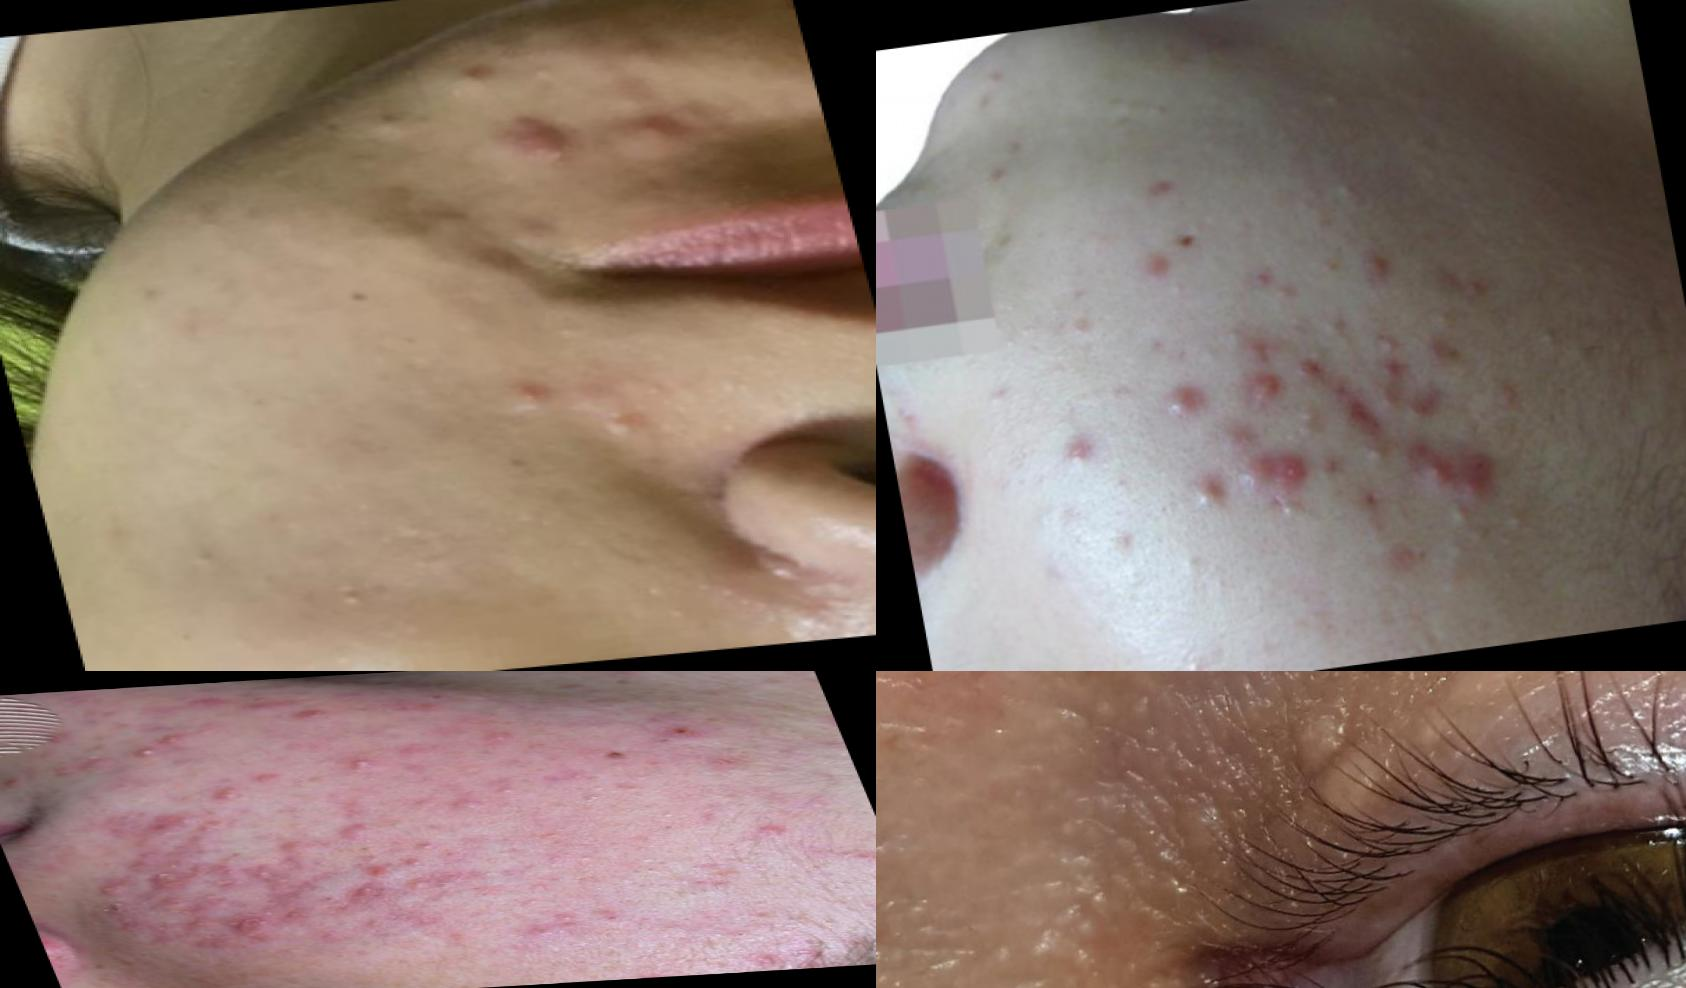papular: (1220, 436, 1326, 505), (483, 116, 598, 171), (1143, 375, 1222, 441), (1407, 438, 1474, 505), (602, 109, 725, 145), (1232, 366, 1307, 421), (1343, 240, 1409, 293), (1050, 427, 1117, 478), (1452, 455, 1503, 519), (228, 907, 296, 946), (1284, 345, 1343, 389), (1239, 333, 1290, 379), (1178, 467, 1222, 520), (1133, 248, 1187, 288), (1405, 390, 1451, 429), (1367, 351, 1411, 389), (205, 781, 255, 810), (327, 820, 383, 843), (147, 867, 193, 894)
purulent: (98, 741, 170, 767), (328, 749, 394, 777), (87, 879, 138, 900)
syringoma: (1211, 672, 1539, 821)
whitehead: (317, 72, 439, 152), (414, 31, 535, 94), (309, 545, 394, 626), (573, 385, 667, 452), (462, 353, 554, 420), (1336, 413, 1400, 470), (1280, 398, 1334, 445), (1309, 66, 1358, 116), (1481, 372, 1530, 418), (1322, 176, 1372, 216), (1363, 313, 1403, 362), (1536, 314, 1575, 363), (483, 775, 542, 803), (1104, 527, 1148, 565), (1497, 503, 1540, 541), (1438, 498, 1481, 534), (1260, 275, 1305, 308), (1319, 311, 1359, 347), (1416, 300, 1452, 336), (402, 834, 459, 857), (1274, 488, 1307, 526), (1216, 320, 1253, 353), (1166, 647, 1215, 672), (400, 872, 444, 895), (1155, 276, 1192, 303), (1173, 550, 1207, 578), (1193, 341, 1227, 368), (1109, 474, 1140, 501), (1192, 655, 1224, 672)
